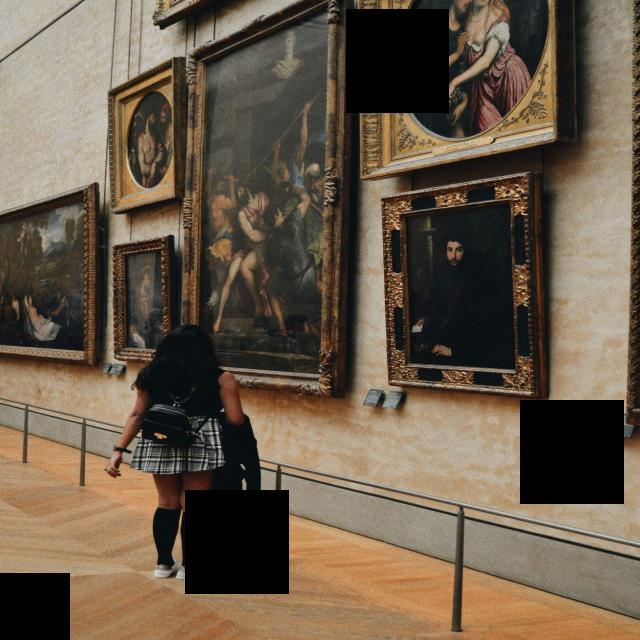Tablo: (199, 6, 330, 376), (401, 202, 517, 372), (112, 65, 176, 208), (125, 250, 166, 352)
